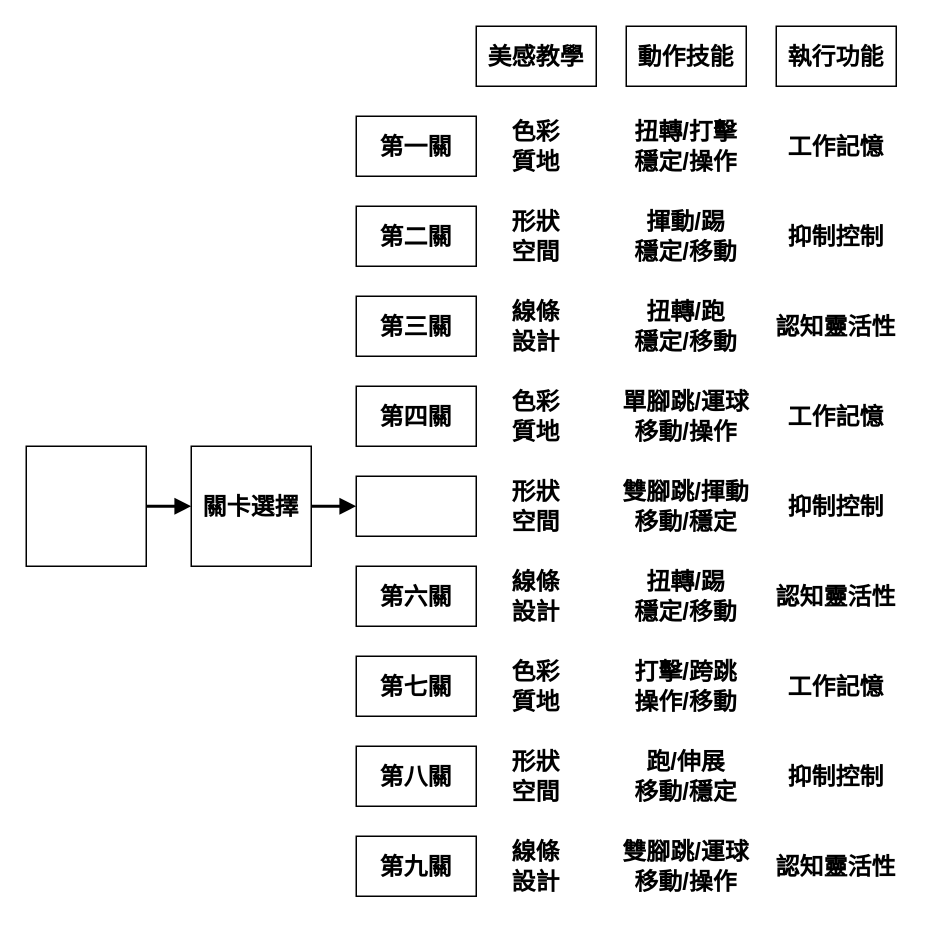
Image size: 930x926. Some labels were removed from this diagram. Here are the shapes that lost their labels. From the top down, the centre of each, then its label:
At point (85, 505): "遊戲登入畫面".
At point (415, 505): "第五關".
